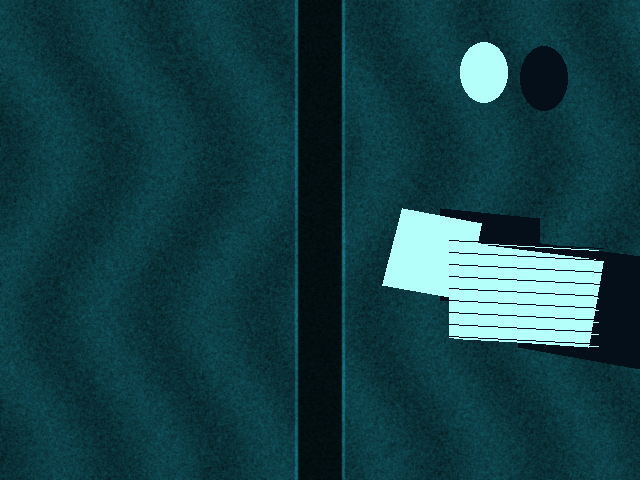Fishing Gear: (449, 240, 603, 347)
Plastic Debris: (460, 42, 507, 102)
Unknown Anomaly: (382, 208, 481, 300)
